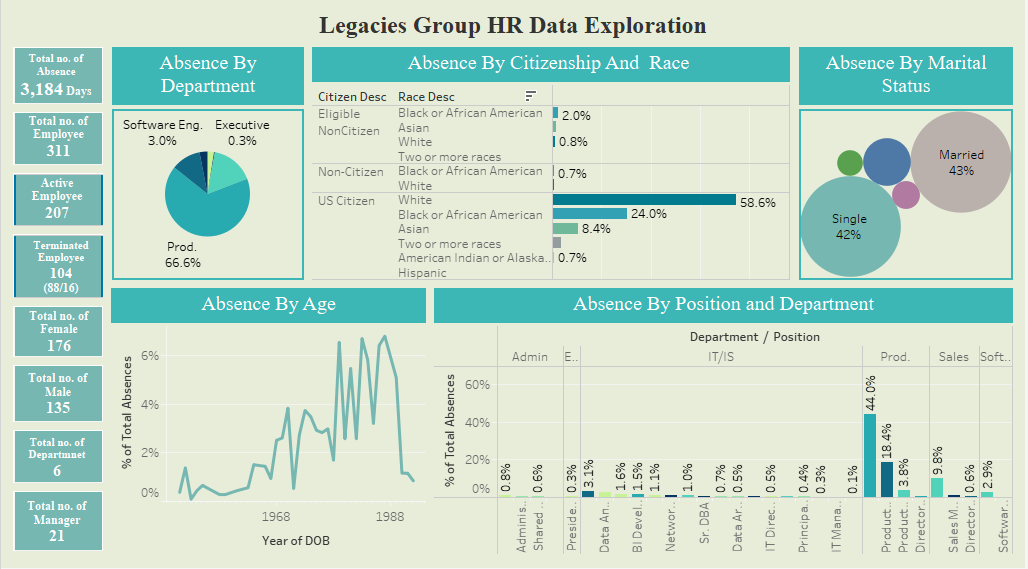

What the dashboard file says about the page in this screenshot:
{"tool":"tableau","page":{"name":"Legacies Group HR Data Exploration ","canvas":[1024,568],"ordinal":1},"visuals":[{"type":"title","box":[8,8,1008,35]},{"type":"worksheet","title":"Total Absence","mark":"Square","rows":["Absences"],"box":[8,43,98,65]},{"type":"worksheet","title":"Absence By Department","mark":"Pie","box":[106,43,201,241]},{"type":"worksheet","title":"Absence By Citizenship And  Race ","mark":"Automatic","rows":["CitizenDesc","RaceDesc"],"cols":["Absences"],"box":[307,43,486,241]},{"type":"worksheet","title":"Absence By Marital Status","mark":"Circle","box":[793,43,223,241]},{"type":"text","box":[16,49,78,55]},{"type":"worksheet","title":"Count Employee","mark":"Square","rows":["EmpID"],"box":[8,108,98,61]},{"type":"text","box":[17,113,81,48]},{"type":"worksheet","title":"Active Employee ","mark":"Square","rows":["EmploymentStatus"],"box":[8,169,98,61]},{"type":"text","box":[17,174,78,50]},{"type":"worksheet","title":"Voluntary Terminated Employee ","mark":"Square","rows":["EmploymentStatus"],"box":[8,230,98,72]},{"type":"text","box":[17,239,86,58]},{"type":"worksheet","title":"Absence By Age","mark":"Automatic","rows":["Absences"],"cols":["DOB"],"box":[106,284,323,276]},{"type":"worksheet","title":"Absence By Position and Department","mark":"Automatic","cols":["Department","Position"],"box":[429,284,587,276]},{"type":"worksheet","title":"GenderF","mark":"Square","rows":["Sex"],"box":[8,302,98,59]},{"type":"text","box":[17,309,82,46]},{"type":"worksheet","title":"GenderM","mark":"Square","rows":["Sex"],"box":[8,361,98,65]},{"type":"text","box":[16,371,82,47]},{"type":"worksheet","title":"Department","mark":"Square","rows":["Department"],"box":[8,426,98,61]},{"type":"text","box":[15,435,82,46]},{"type":"worksheet","title":"Manager","mark":"Square","rows":["ManagerName"],"box":[8,487,98,68]},{"type":"text","box":[14,496,84,53]}]}

Visuals, with their boxes in screenshot pixels (x1, y1, x2, y2), scaled from the page's 1024x568 canvas onto the 1028x569 screenshot:
title: 8, 8, 1020, 43
"Total Absence" worksheet (Square marks): 8, 43, 106, 108
"Absence By Department" worksheet (Pie marks): 106, 43, 308, 284
"Absence By Citizenship And  Race " worksheet: 308, 43, 796, 284
"Absence By Marital Status" worksheet (Circle marks): 796, 43, 1020, 284
text: 16, 49, 94, 104
"Count Employee" worksheet (Square marks): 8, 108, 106, 169
text: 17, 113, 98, 161
"Active Employee " worksheet (Square marks): 8, 169, 106, 230
text: 17, 174, 95, 224
"Voluntary Terminated Employee " worksheet (Square marks): 8, 230, 106, 303
text: 17, 239, 103, 298
"Absence By Age" worksheet: 106, 284, 431, 561
"Absence By Position and Department" worksheet: 431, 284, 1020, 561
"GenderF" worksheet (Square marks): 8, 303, 106, 362
text: 17, 310, 99, 356
"GenderM" worksheet (Square marks): 8, 362, 106, 427
text: 16, 372, 98, 419
"Department" worksheet (Square marks): 8, 427, 106, 488
text: 15, 436, 97, 482
"Manager" worksheet (Square marks): 8, 488, 106, 556
text: 14, 497, 98, 550
